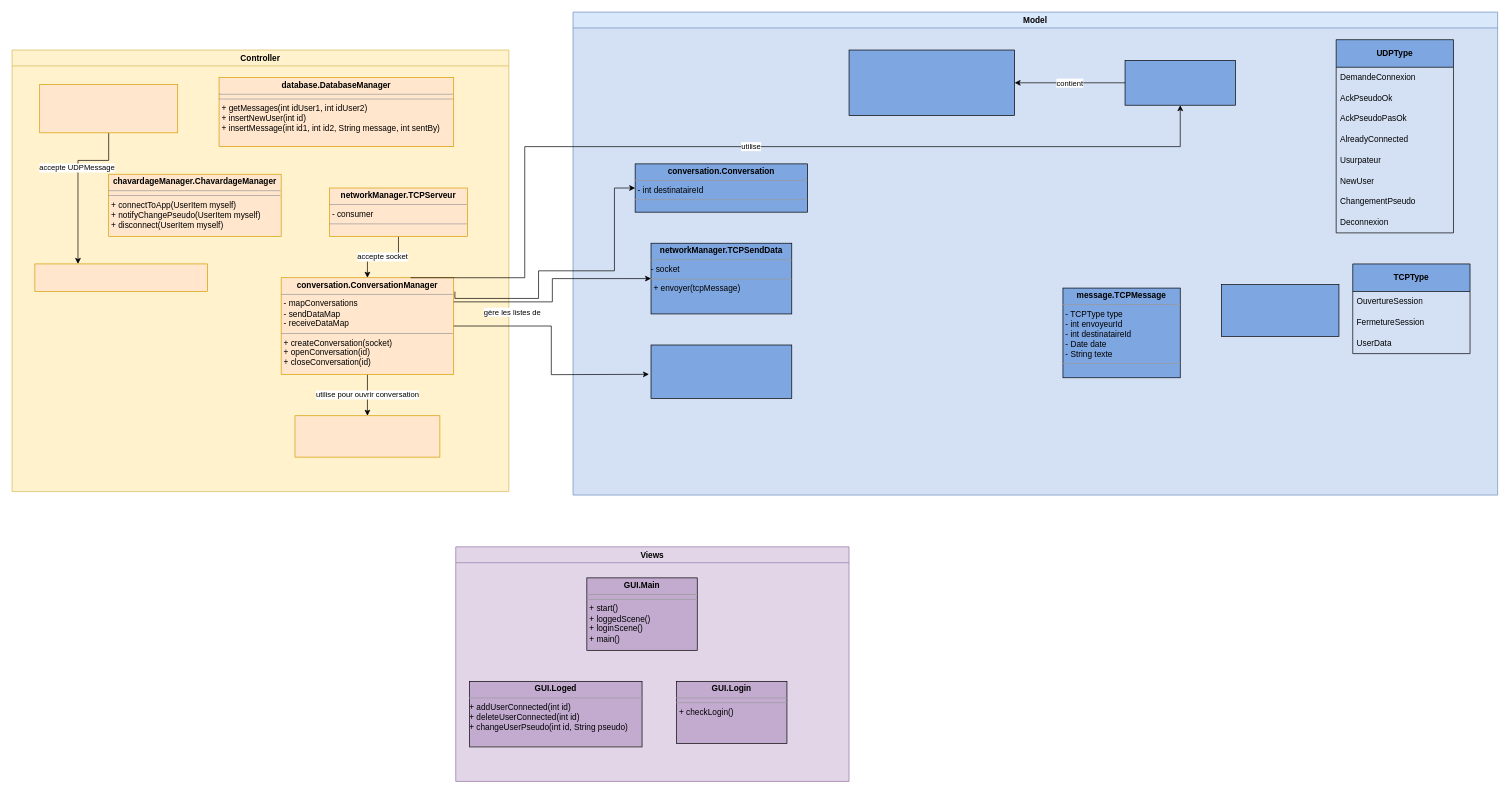
The diagram is 1510 pixels wide and 794 high, and some of its shapes have lost their labels. Each missing label, with the centre of its shape:
"chavardageManager.GestionUDPMessage" belongs at pixel 120 277.
"message.UDPMessage - UserItem envoyeur - UDPType controlType" belongs at pixel 1280 310.
"networkManager.TCPConnect + connectTo(InetAddress address)" belongs at pixel 367 436.
"networkManager.TCPReceiveData - socket - consumer" belongs at pixel 721 371.
"networkManager.UDPServeur - consumer" belongs at pixel 108 108.
"userList.ListeUser - listeUser" belongs at pixel 1179 82.
"userList.UserItem - int id - String pseudo - InetAddress address" belongs at pixel 931 82.
